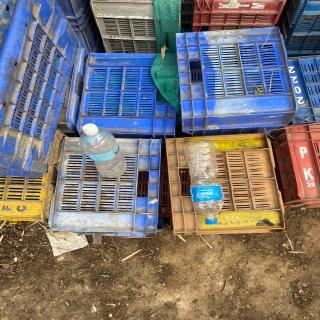Plastic-bottle: (182, 139, 228, 227), (77, 121, 131, 182)
